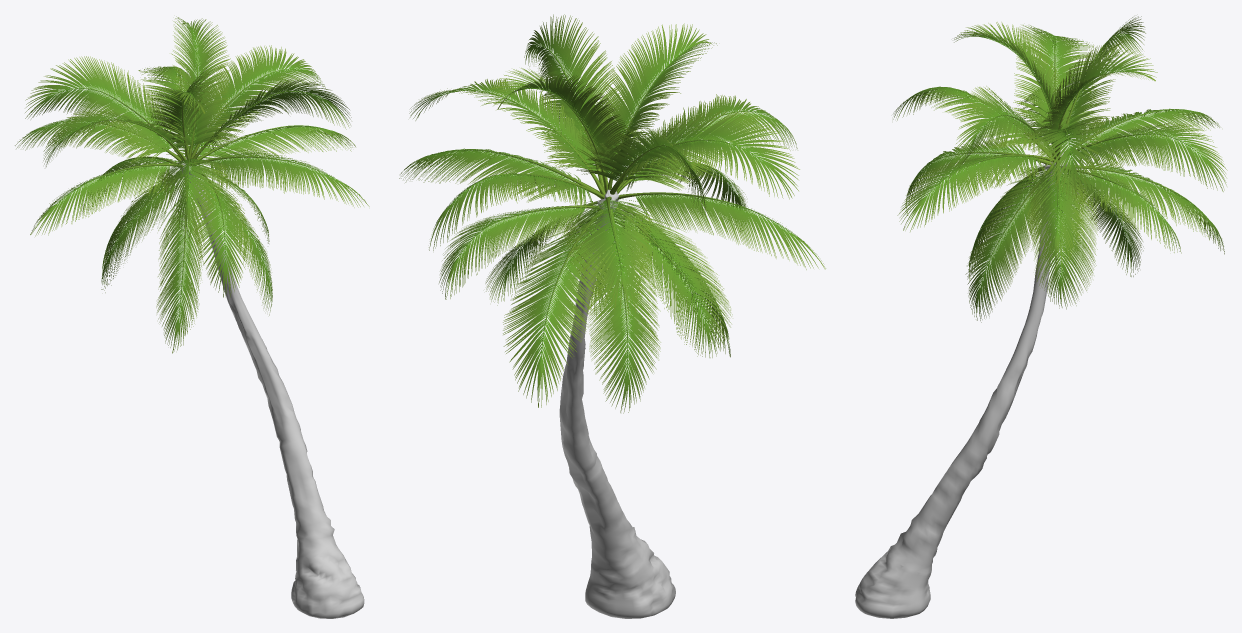
3 views of the same model, side by side, from view 1: azimuth 30°, elevation 25°; view 2: azimuth 150°, elevation 25°; view 3: azimuth 270°, elevation 25° (orthographic). The views are drawn at different scales.
Parts seen in each view (by area): view 1: Leaves, Trunk; view 2: Leaves, Trunk; view 3: Leaves, Trunk.
Part boxes in pixels (left/top/right/bottom): Leaves: left=15, top=16, right=369, bottom=353; Trunk: left=178, top=157, right=364, bottom=618; Leaves: left=399, top=14, right=825, bottom=413; Trunk: left=559, top=189, right=675, bottom=618; Leaves: left=893, top=16, right=1227, bottom=322; Trunk: left=855, top=152, right=1067, bottom=618.
Bounding box in the file's own units: 165 × 245 × 153.
